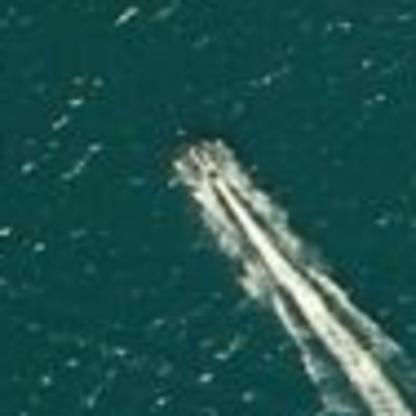ship: (179, 134, 226, 182)
